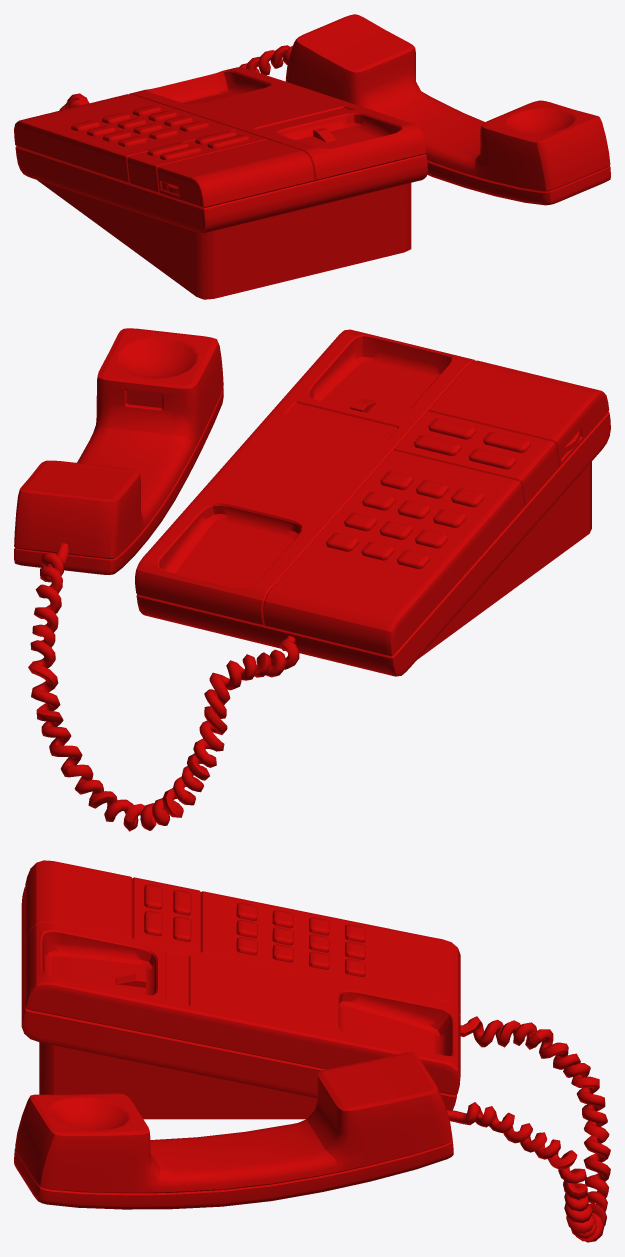
Rendered from Phone.gltf.
The picture shows the model from 3 angles, top to bottom: view 1: azimuth 30°, elevation 25°; view 2: azimuth 150°, elevation 25°; view 3: azimuth 270°, elevation 25°; orthographic projection. The views are drawn at different scales.
Visible parts, largest first — view 1: PTish Phone; view 2: PTish Phone; view 3: PTish Phone.
Boxes of the visible parts, x1,y1,x2,y2 form: PTish Phone: [14, 14, 610, 299]; PTish Phone: [14, 328, 610, 831]; PTish Phone: [14, 860, 610, 1242].
Size of the model in its own units: 29.77 by 16.8 by 32.33.
